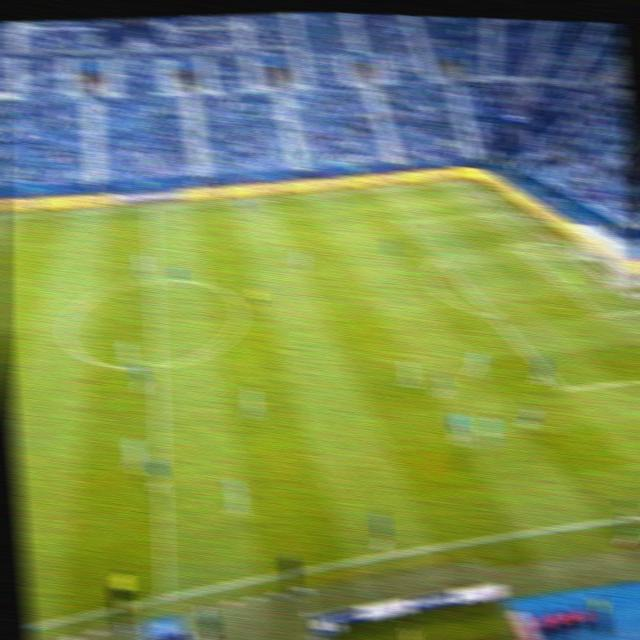bigarea_bottom_inner: (552, 383, 572, 395)
bigarea_top_inner: (395, 215, 414, 228)
bigarea_top_outter: (500, 205, 520, 219)
bottom_arc_area_intersection: (484, 309, 503, 323)
corner: (459, 175, 480, 190)
halfcircle_bottom: (147, 360, 165, 374)
halfcircle_top: (144, 275, 163, 286)
midline_bottom_intersection: (155, 590, 175, 605)
midline_top_intersection: (141, 201, 161, 214)
smallarea_bottom_inner: (591, 309, 611, 322)
smallarea_top_inner: (505, 239, 524, 252)
smallarea_top_outter: (543, 235, 559, 248)
top_arc_area_intersection: (430, 251, 449, 265)
